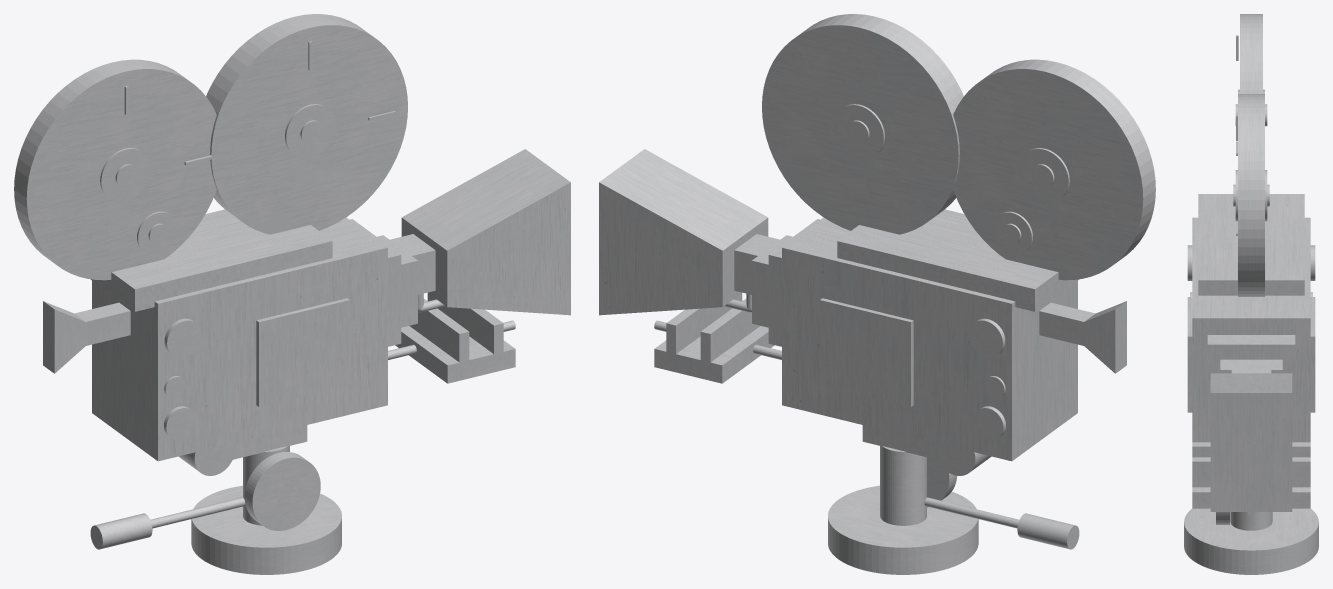
Rendered from icons-transformed.glb.
The picture shows the model from 3 angles, left to right: view 1: azimuth 30°, elevation 25°; view 2: azimuth 150°, elevation 25°; view 3: azimuth 270°, elevation 25°; orthographic projection. The views are drawn at different scales.
Visible parts, largest first — view 1: body, reelF, reelR, Cube.006, reelsMount, Cylinder.003, bodyPanel, Cylinder.004, Cube.009, Cube.008, Cube.010, reelF.001 (+14 smaller); view 2: body, reelF, reelR, Cube.006, reelsMount, Cylinder.003, bodyPanel, Cylinder.008, Cube.009, Cube.008, Cube.010, reelF.001 (+14 smaller); view 3: Cube.006, body, reelsMount, Cylinder.003, reelF, Cube.001, reelR, bodyPanel, Cube.011, Cube.009, Cube.002, Cylinder.008 (+3 smaller).
Part boxes in pixels (bbox=[...]): body: bbox=[92, 217, 387, 461]; reelF: bbox=[206, 14, 407, 234]; reelR: bbox=[14, 59, 216, 280]; Cube.006: bbox=[401, 149, 570, 315]; reelsMount: bbox=[91, 209, 332, 311]; Cylinder.003: bbox=[191, 485, 341, 574]; bodyPanel: bbox=[256, 298, 349, 406]; Cylinder.004: bbox=[244, 452, 320, 530]; Cube.009: bbox=[395, 326, 515, 383]; Cube.008: bbox=[43, 301, 85, 373]; Cube.010: bbox=[409, 298, 469, 362]; reelF.001: bbox=[285, 104, 335, 158]; body: bbox=[782, 217, 1077, 461]; reelF: bbox=[762, 14, 963, 234]; reelR: bbox=[953, 59, 1155, 280]; Cube.006: bbox=[599, 149, 768, 315]; reelsMount: bbox=[837, 209, 1078, 311]; Cylinder.003: bbox=[828, 485, 978, 574]; bodyPanel: bbox=[820, 298, 913, 406]; Cylinder.008: bbox=[880, 446, 926, 525]; Cube.009: bbox=[654, 326, 774, 383]; Cube.008: bbox=[1084, 301, 1126, 373]; Cube.010: bbox=[700, 298, 760, 362]; reelF.001: bbox=[834, 104, 884, 158]; Cube.006: bbox=[1210, 373, 1292, 511]; body: bbox=[1192, 217, 1310, 442]; reelsMount: bbox=[1198, 194, 1304, 295]; Cylinder.003: bbox=[1184, 508, 1318, 574]; reelF: bbox=[1238, 94, 1264, 296]; Cube.001: bbox=[1207, 335, 1295, 423]; reelR: bbox=[1240, 14, 1262, 93]; bodyPanel: bbox=[1187, 297, 1315, 412]; Cube.011: bbox=[1192, 457, 1310, 487]; Cube.009: bbox=[1192, 487, 1310, 508]; Cube.002: bbox=[1220, 359, 1282, 373]; Cylinder.008: bbox=[1230, 512, 1272, 530].
Size of the model in its own units: 3.04 by 2.82 by 0.7528.
1 material, 1 textured.
